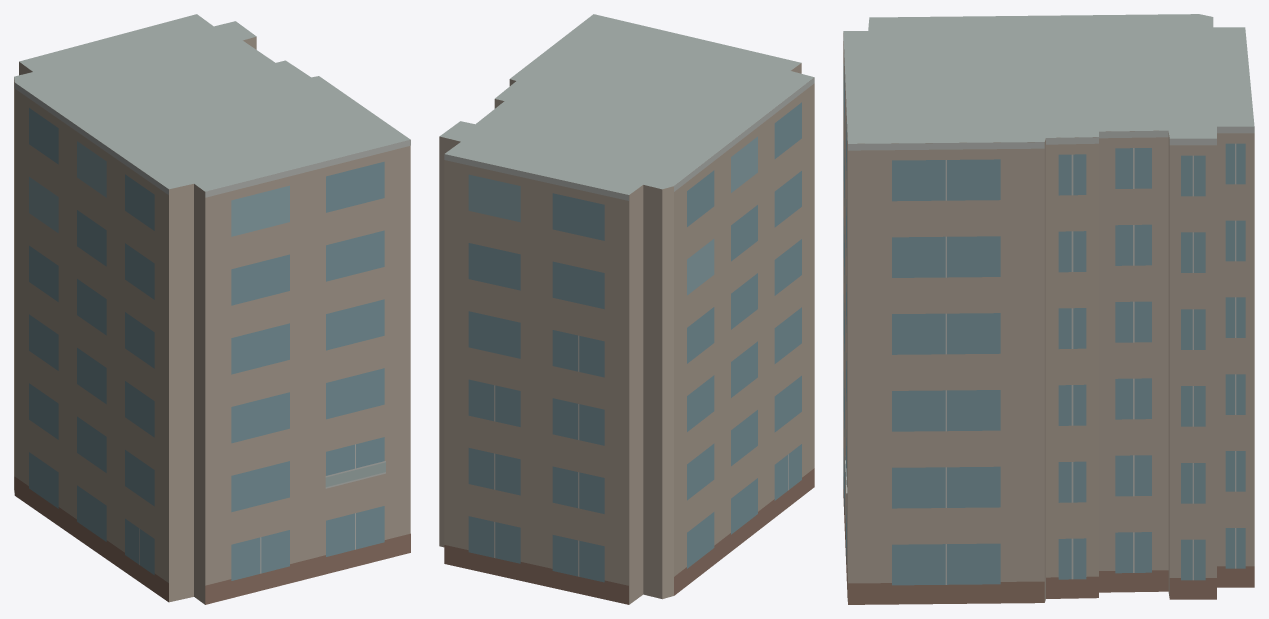
Rendered from survey-upis-32643999.glb.
3 views of the same model, side by side, from view 1: azimuth 30°, elevation 25°; view 2: azimuth 150°, elevation 25°; view 3: azimuth 270°, elevation 25° (orthographic). The views are drawn at different scales.
Visible parts, largest first — view 1: survey-upis-32643999.tmp; view 2: survey-upis-32643999.tmp; view 3: survey-upis-32643999.tmp.
Part boxes in pixels (x1,y1,x2,y2): survey-upis-32643999.tmp: (14,14,410,604); survey-upis-32643999.tmp: (439,14,814,604); survey-upis-32643999.tmp: (843,14,1254,604).
Size of the model in its own units: 10.1 by 16.7 by 13.51.
